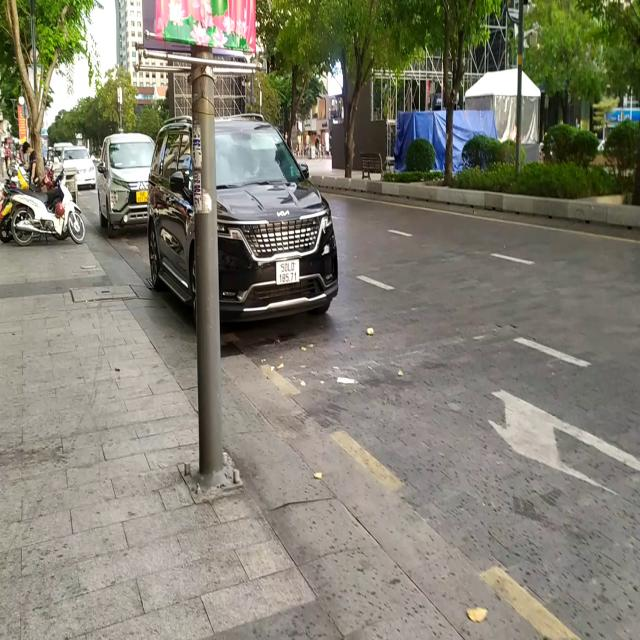bien_trang: (271, 259, 303, 285)
